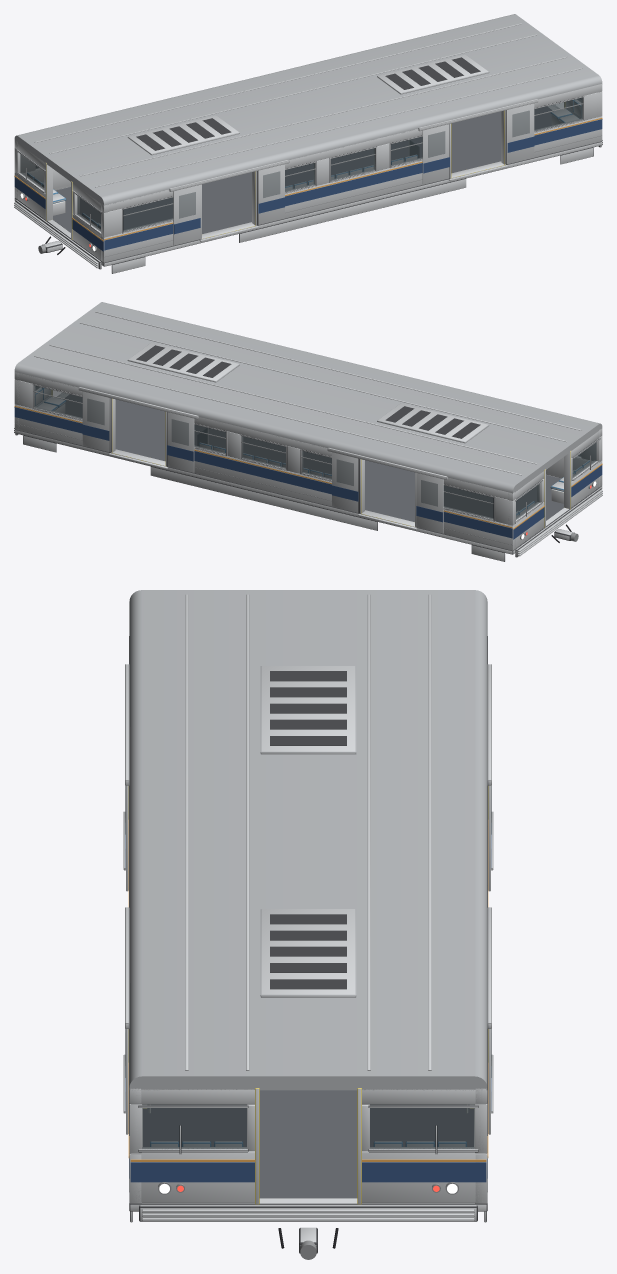
File: trem_metro.glb
3 renders of one model, top to bottom at view 1: azimuth 30°, elevation 25°; view 2: azimuth 150°, elevation 25°; view 3: azimuth 270°, elevation 25°, orthographic. The views are drawn at different scales.
Visible parts, largest first — view 1: trem_metro; view 2: trem_metro; view 3: trem_metro.
Boxes of the visible parts, box(x1,y1,x2,y2) form: trem_metro: box(14, 14, 602, 273); trem_metro: box(14, 302, 602, 561); trem_metro: box(123, 590, 493, 1259).
Bounding box in the file's own units: 19.36 × 3.33 × 5.78.
